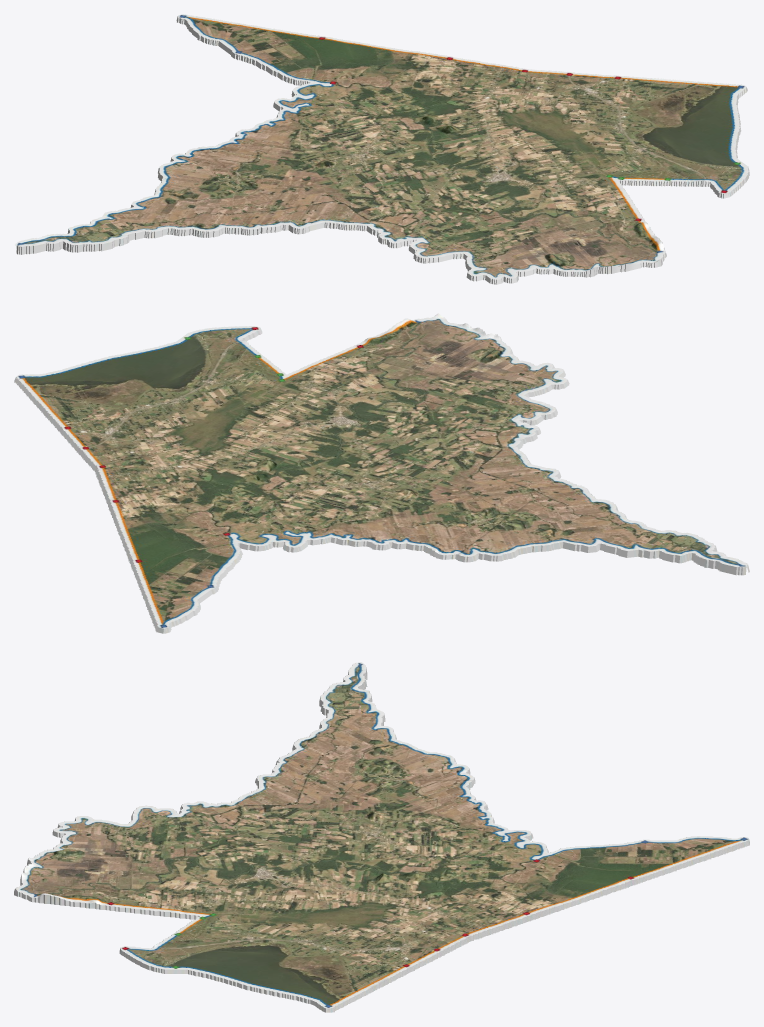
3 renders of one model, top to bottom at view 1: azimuth 30°, elevation 25°; view 2: azimuth 150°, elevation 25°; view 3: azimuth 270°, elevation 25°, orthographic. The views are drawn at different scales.
Size of the model in its own units: 1 by 0.012 by 0.9054.
1 material, 1 textured.
